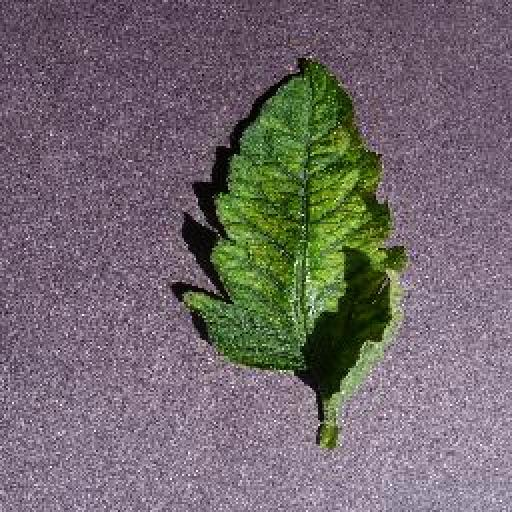Mosaic Virus: (183, 54, 413, 400)
